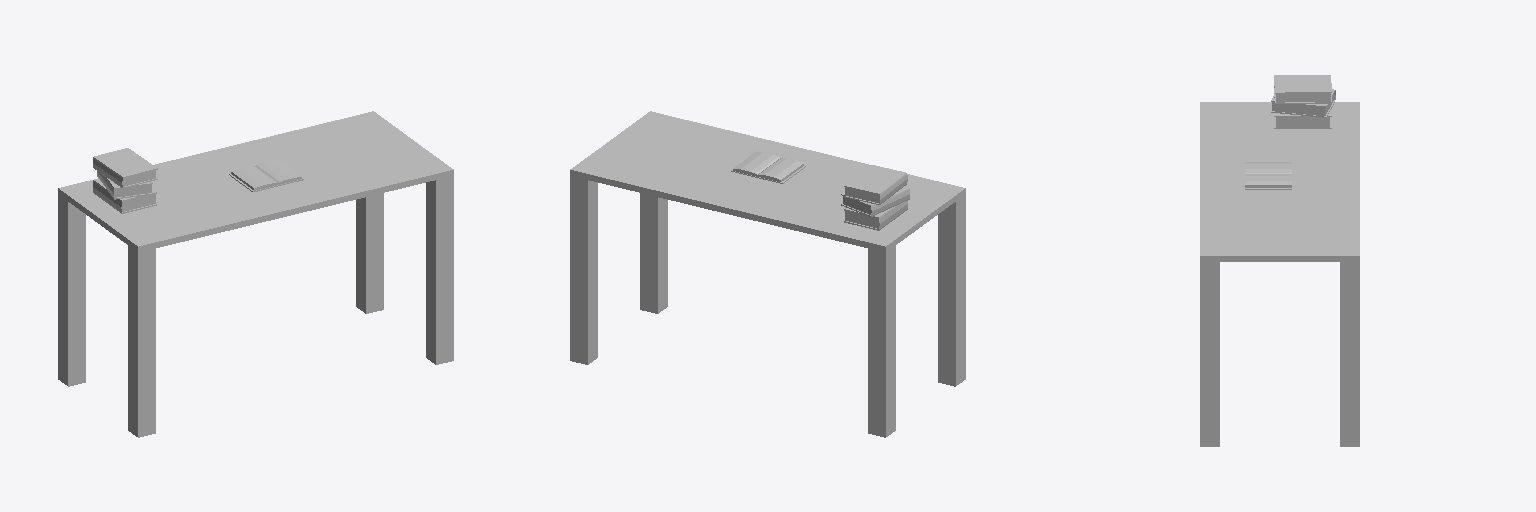
Rendered from Nauka3.obj.
3 views of the same model, side by side, from view 1: azimuth 30°, elevation 25°; view 2: azimuth 150°, elevation 25°; view 3: azimuth 270°, elevation 25° (orthographic).
Visible parts, largest first — view 1: StolKsiazki_Cube.009; view 2: StolKsiazki_Cube.009; view 3: StolKsiazki_Cube.009.
Part boxes in pixels (x1,y1,x2,y2): StolKsiazki_Cube.009: (58,111,453,437); StolKsiazki_Cube.009: (570,111,965,437); StolKsiazki_Cube.009: (1200,75,1359,446).
Bounding box in the file's own units: 2.73 × 1.89 × 1.2.